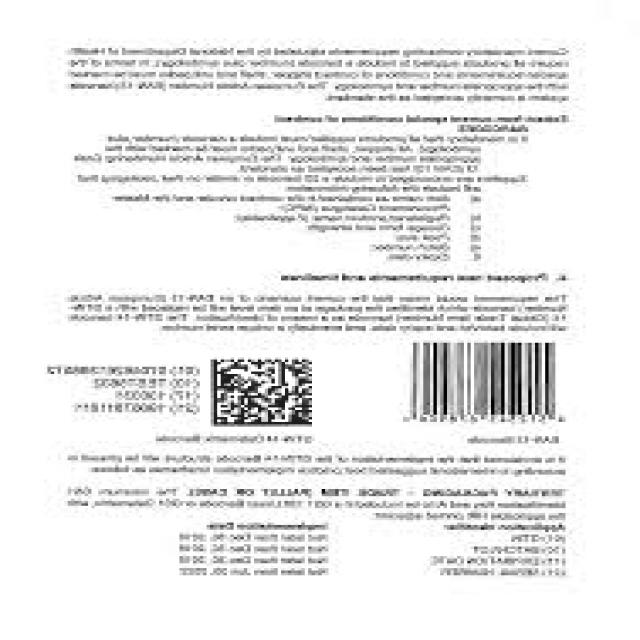DataMatrix: (200, 350, 322, 431)
